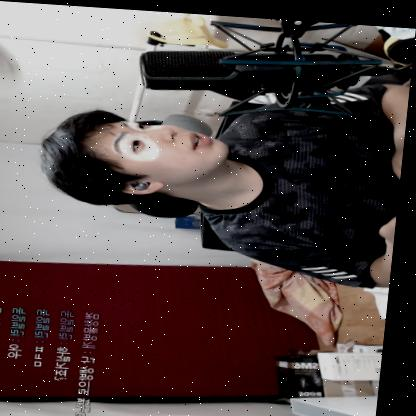streamer: (36, 59, 411, 281)
